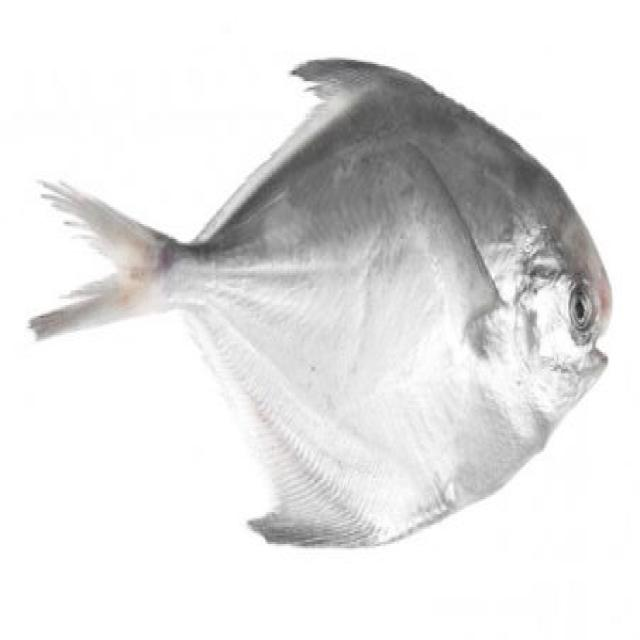pomfred: (38, 56, 613, 545)
